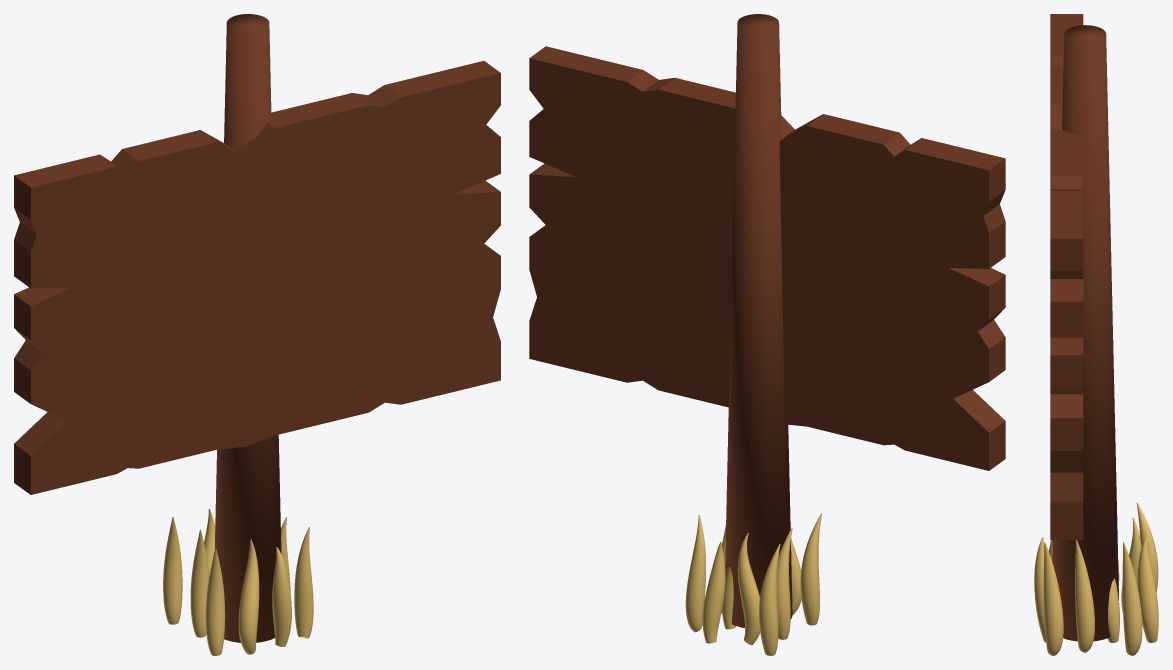
Rendered from Schild_mit_Gras_Gelb.fbx.
3 renders of one model, left to right at view 1: azimuth 30°, elevation 25°; view 2: azimuth 150°, elevation 25°; view 3: azimuth 270°, elevation 25°, orthographic. The views are drawn at different scales.
Visible parts, largest first — view 1: Circle.006, NurbsPath.001; view 2: Circle.006, NurbsPath.001; view 3: Circle.006, NurbsPath.001.
Boxes of the visible parts, left/top/right/bottom form: Circle.006: left=14, top=14, right=500, bottom=642; NurbsPath.001: left=163, top=508, right=313, bottom=655; Circle.006: left=529, top=14, right=1005, bottom=628; NurbsPath.001: left=685, top=513, right=821, bottom=655; Circle.006: left=1050, top=14, right=1118, bottom=641; NurbsPath.001: left=1034, top=502, right=1158, bottom=655.
Bounding box in the file's own units: 124 × 155 × 29.11.
